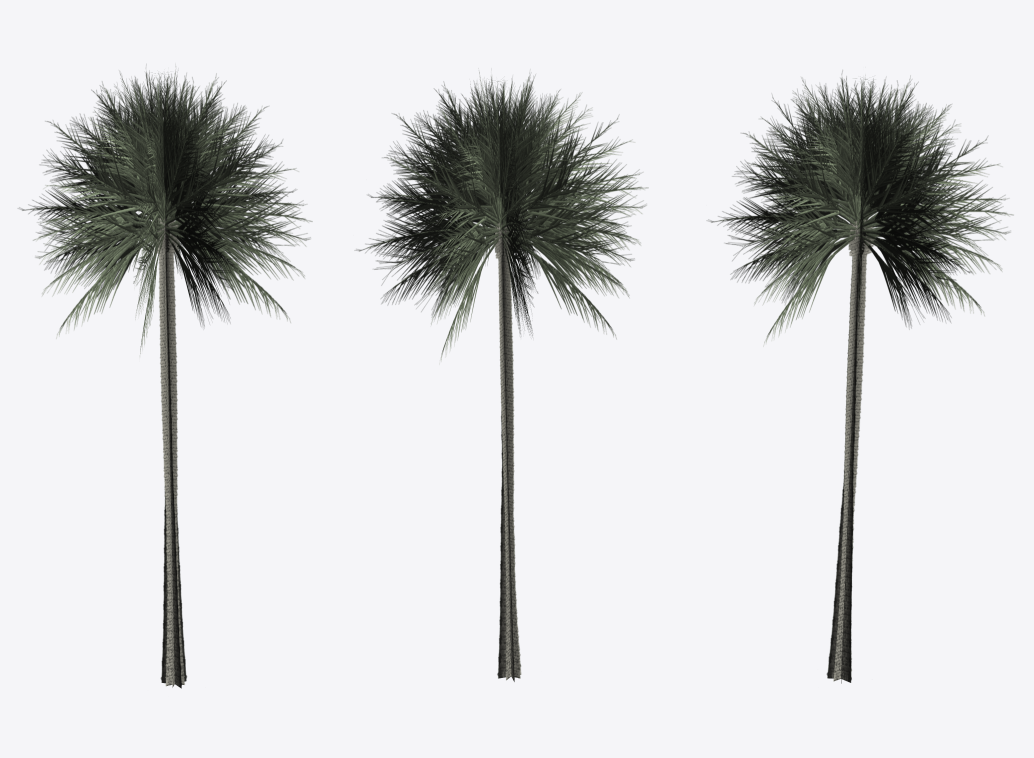
The picture shows the model from 3 angles, left to right: view 1: azimuth 30°, elevation 25°; view 2: azimuth 150°, elevation 25°; view 3: azimuth 270°, elevation 25°; orthographic projection.
Visible parts, largest first — view 1: pPlane3, pPlane1, pPlane2, pPlane4; view 2: pPlane4, pPlane1, pPlane2, pPlane3; view 3: pPlane2, pPlane4, pPlane3, pPlane1.
Boxes of the visible parts, x1,y1,x2,y2 form: pPlane3: (18,75,312,684); pPlane1: (33,73,295,686); pPlane2: (93,71,242,688); pPlane4: (132,71,187,687); pPlane4: (355,77,648,678); pPlane1: (368,81,636,678); pPlane2: (425,73,571,680); pPlane3: (467,72,537,681); pPlane2: (707,79,1013,678); pPlane4: (747,70,972,682); pPlane3: (750,75,970,681); pPlane1: (841,81,865,683).
Size of the model in its own units: 2.03 by 4.43 by 2.19.
1 material, 1 textured.
